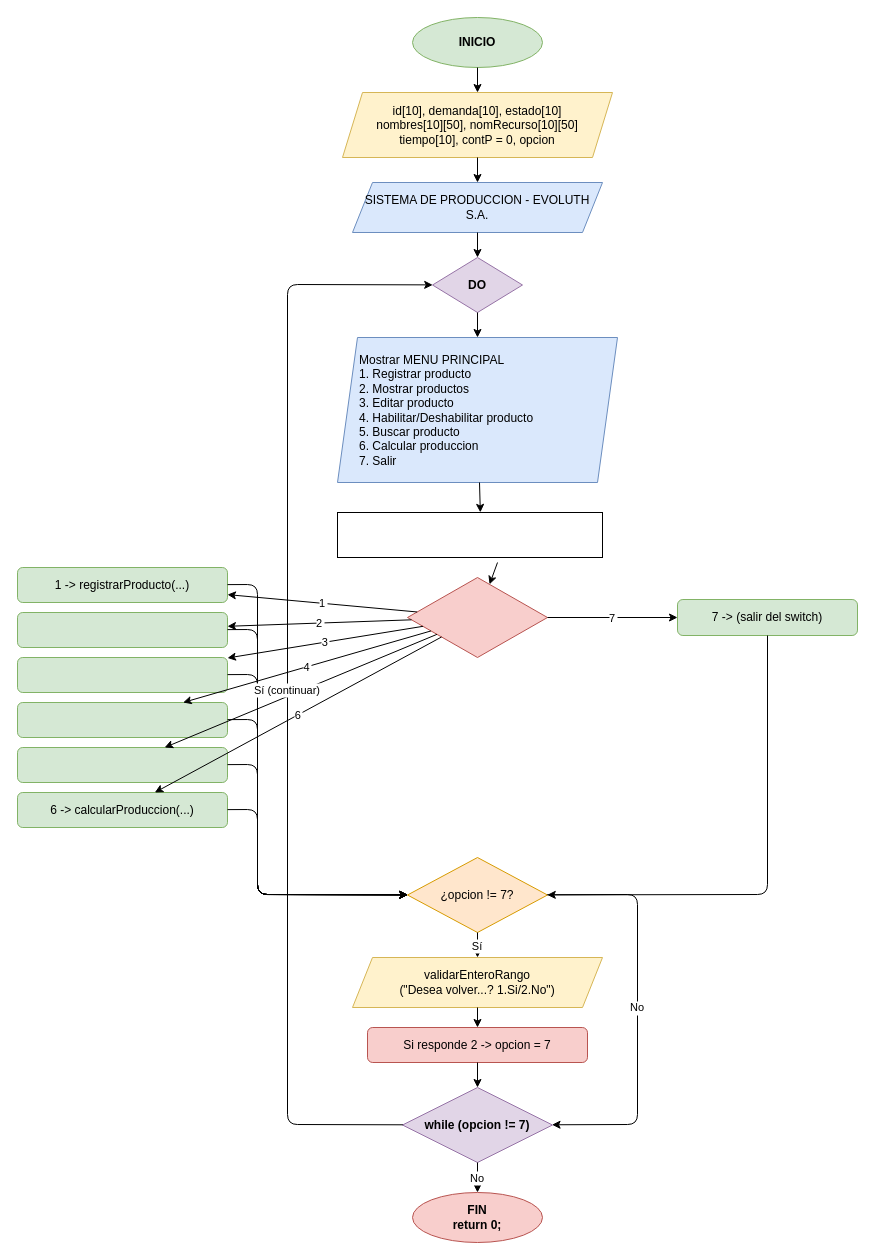
Image size: 875x1260. Some labels were removed from this diagram. The shapes that lost their labels are listed below. From the top down, each one's centre as x and y in pixels, then its label:
(x=469, y=535): opcion = validarEnteroRango(1, 7)
(x=122, y=630): 2 -> mostrarProductos(...)
(x=477, y=617): switch (opcion)
(x=122, y=674): 3 -> editarProducto(...)
(x=122, y=720): 4 -> cambiarEstadoProducto(...)
(x=122, y=764): 5 -> buscarProducto(...)
